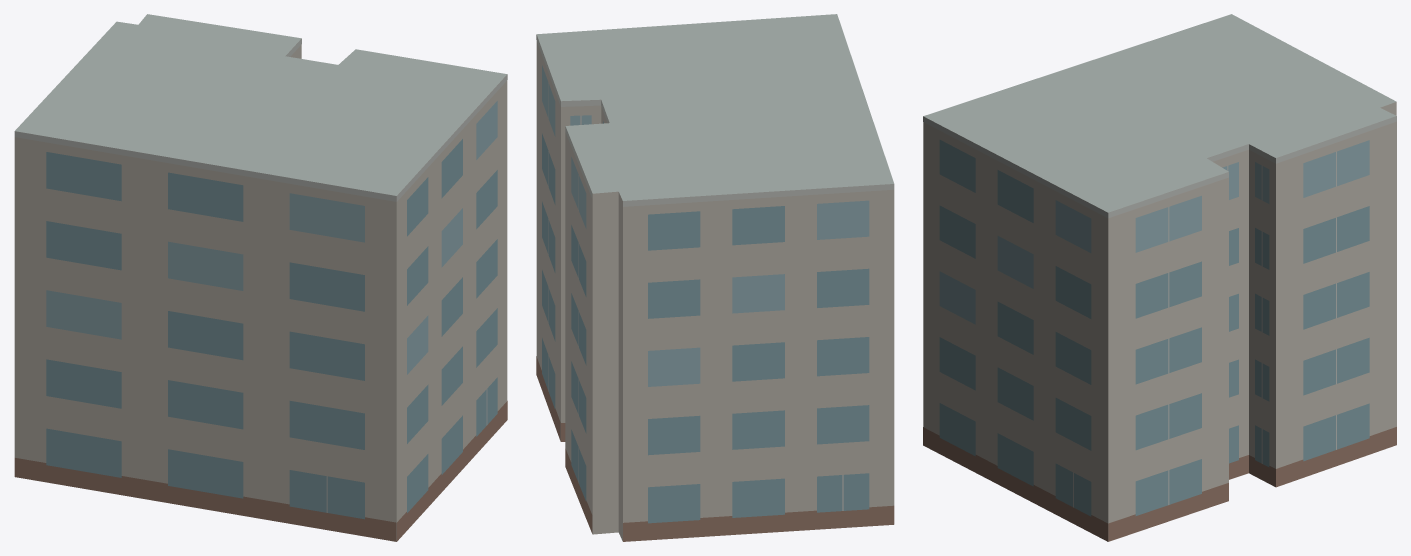
The model's file is survey-upis-32746878.glb.
3 renders of one model, left to right at view 1: azimuth 30°, elevation 25°; view 2: azimuth 150°, elevation 25°; view 3: azimuth 270°, elevation 25°, orthographic. The views are drawn at different scales.
Visible parts, largest first — view 1: survey-upis-32746878.tmp; view 2: survey-upis-32746878.tmp; view 3: survey-upis-32746878.tmp.
Part boxes in pixels (box(x1,y1,x2,y2)): survey-upis-32746878.tmp: box(14, 14, 507, 541); survey-upis-32746878.tmp: box(536, 14, 894, 541); survey-upis-32746878.tmp: box(923, 14, 1396, 541).
Size of the model in its own units: 18.52 by 14.3 by 18.66.
